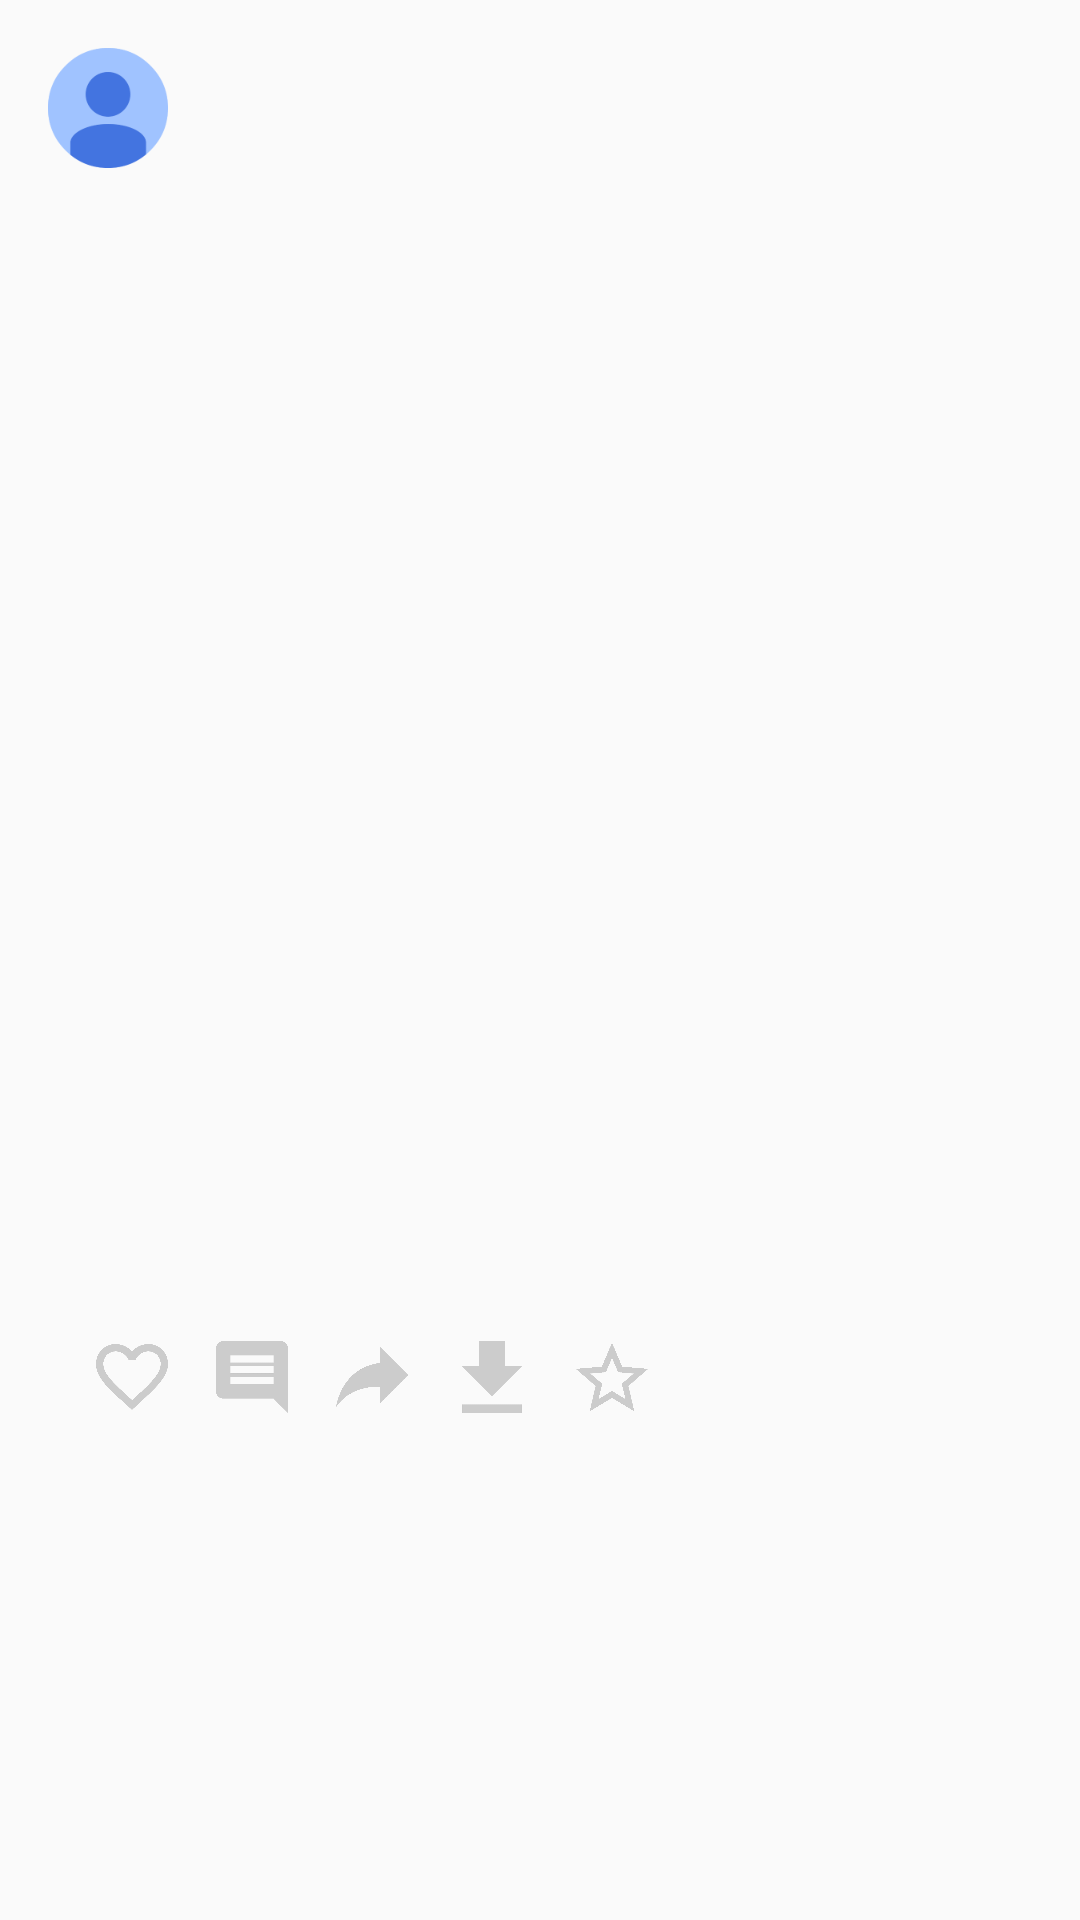

Where icons sit on this 1080px x 1920px app screen, as (x1, y1, x2, y2):
comments: (216, 1341, 288, 1413)
download: (462, 1341, 522, 1413)
favorite: (577, 1344, 647, 1411)
noavatar: (48, 48, 168, 168)
repost: (336, 1347, 408, 1407)
unliked: (96, 1344, 168, 1409)
